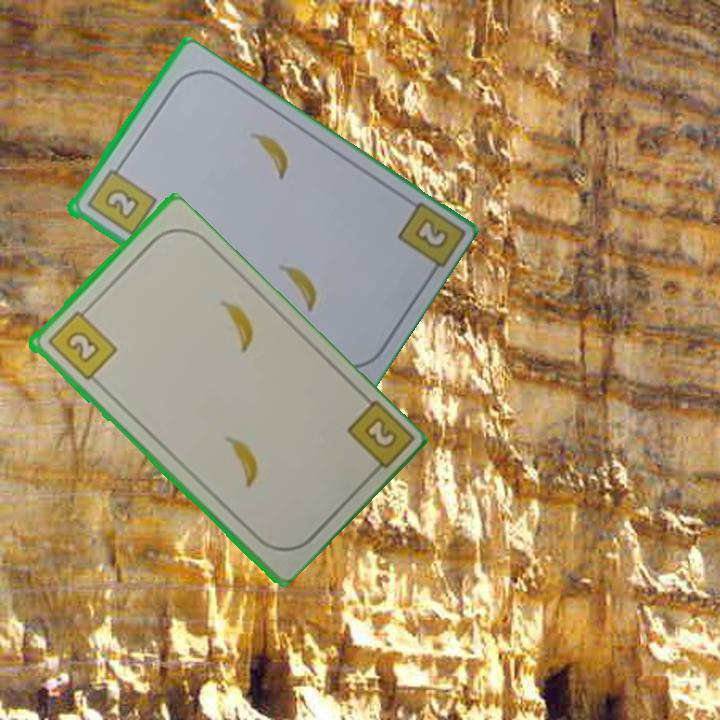2b: (82, 159, 159, 239), (43, 303, 119, 384), (342, 396, 413, 482), (414, 217, 448, 249)
